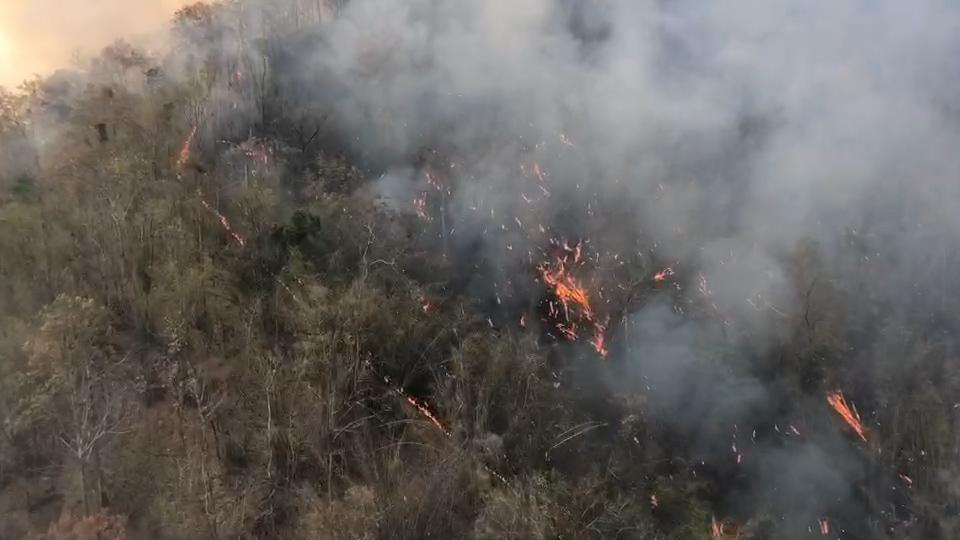fire: (456, 181, 949, 540), (107, 14, 637, 316)
